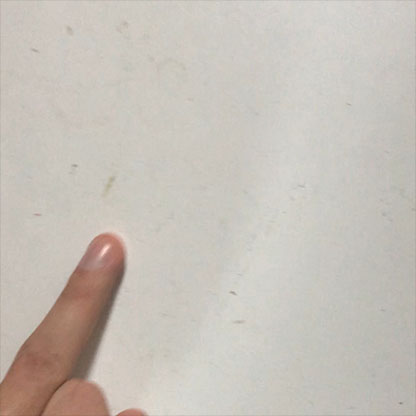fingertip: (74, 223, 128, 280)
